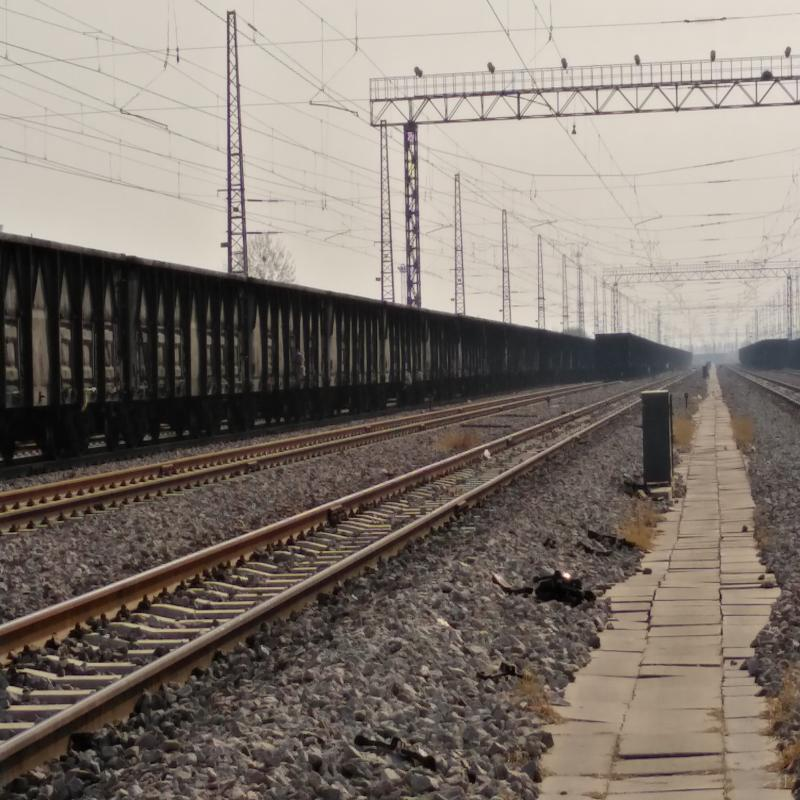train: (16, 238, 318, 439), (598, 331, 675, 378)
